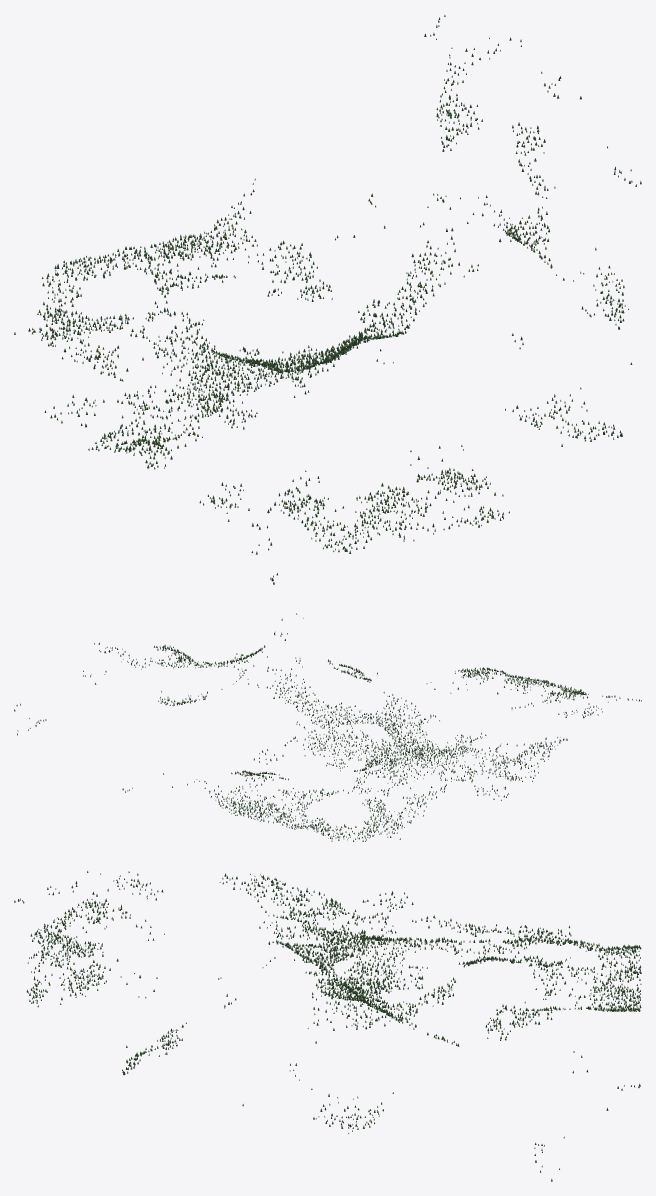
The picture shows the model from 3 angles, top to bottom: view 1: azimuth 30°, elevation 25°; view 2: azimuth 150°, elevation 25°; view 3: azimuth 270°, elevation 25°; orthographic projection. The views are drawn at different scales.
Parts seen in each view (by area): view 1: Forest 3.1, Forest 3.0, Forest 3.4, Forest 3.5, Forest 3.2, Forest 3.6, Forest 3.8, Forest 3.7; view 2: Forest 3.1, Forest 3.5, Forest 3.0, Forest 3.4, Forest 3.2, Forest 3.8, Forest 3.7, Forest 3.6; view 3: Forest 3.1, Forest 3.5, Forest 3.4, Forest 3.0, Forest 3.2, Forest 3.8, Forest 3.6, Forest 3.7.
Boxes of the visible parts, box(x1,y1,x2,y2) form: Forest 3.1: box(44, 335, 316, 466); Forest 3.0: box(14, 252, 204, 374); Forest 3.4: box(115, 178, 380, 320); Forest 3.5: box(242, 193, 522, 373); Forest 3.2: box(147, 464, 459, 579); Forest 3.6: box(410, 342, 618, 527); Forest 3.8: box(478, 148, 632, 364); Forest 3.7: box(353, 15, 559, 237); Forest 3.1: box(368, 711, 563, 800); Forest 3.5: box(239, 632, 415, 771); Forest 3.0: box(286, 769, 444, 841); Forest 3.4: box(187, 749, 323, 825); Forest 3.2: box(480, 672, 639, 740); Forest 3.8: box(158, 618, 282, 706); Forest 3.7: box(83, 642, 206, 792); Forest 3.6: box(329, 660, 506, 693); Forest 3.1: box(226, 873, 433, 976); Forest 3.5: box(228, 941, 428, 1035); Forest 3.4: box(433, 962, 641, 1057); Forest 3.0: box(433, 915, 641, 972); Forest 3.2: box(19, 871, 227, 984); Forest 3.8: box(226, 960, 434, 1133); Forest 3.6: box(26, 966, 225, 1073); Forest 3.7: box(433, 951, 640, 1087).
Bounding box in the file's own units: 4134 × 1081 × 3791.
